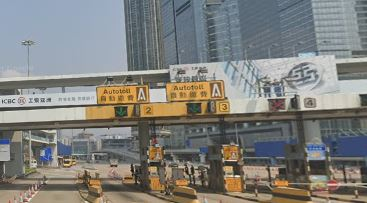Autotoll: (167, 80, 224, 99), (97, 87, 148, 102)
